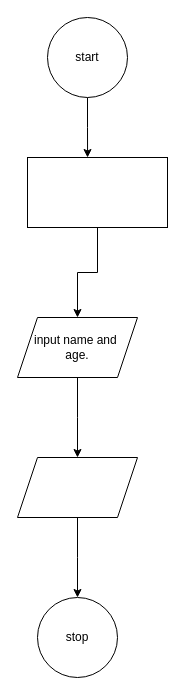
This 185x695 diagram has some shape labels left out. Here are the shapes that lost their labels. From the top down, the centre of each, then its label:
At point 97,192: "Declare the class and make scanner object which takes input from the keyboard".
At point 77,487: "Output name and age".
